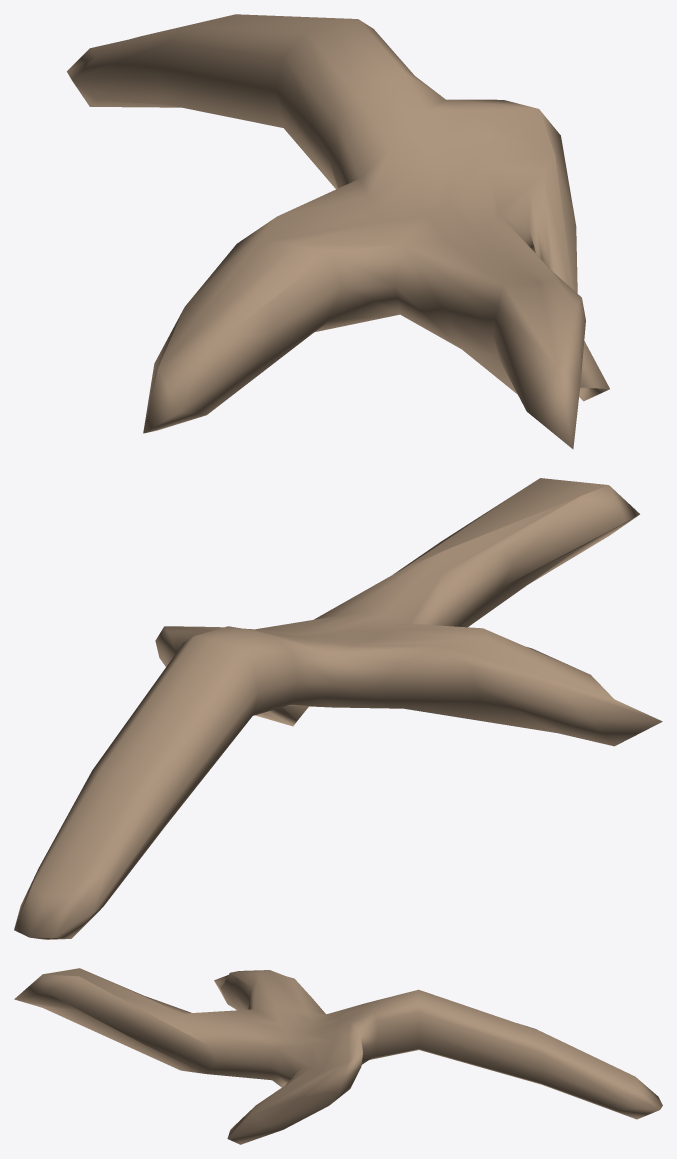
File: Gren 1.fbx
3 renders of one model, top to bottom at view 1: azimuth 30°, elevation 25°; view 2: azimuth 150°, elevation 25°; view 3: azimuth 270°, elevation 25°, orthographic. The views are drawn at different scales.
Visible parts, largest first — view 1: pCube24; view 2: pCube24; view 3: pCube24.
Part boxes in pixels (<box>): pCube24: <box>67,14,609,449</box>; pCube24: <box>14,478,662,939</box>; pCube24: <box>14,968,662,1144</box>.
Size of the model in its own units: 226 by 104 by 464.
